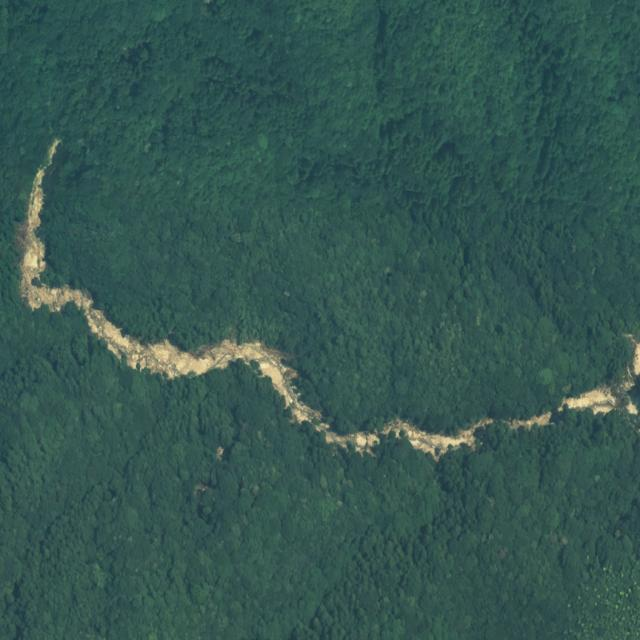landslide: (19, 140, 640, 459)
